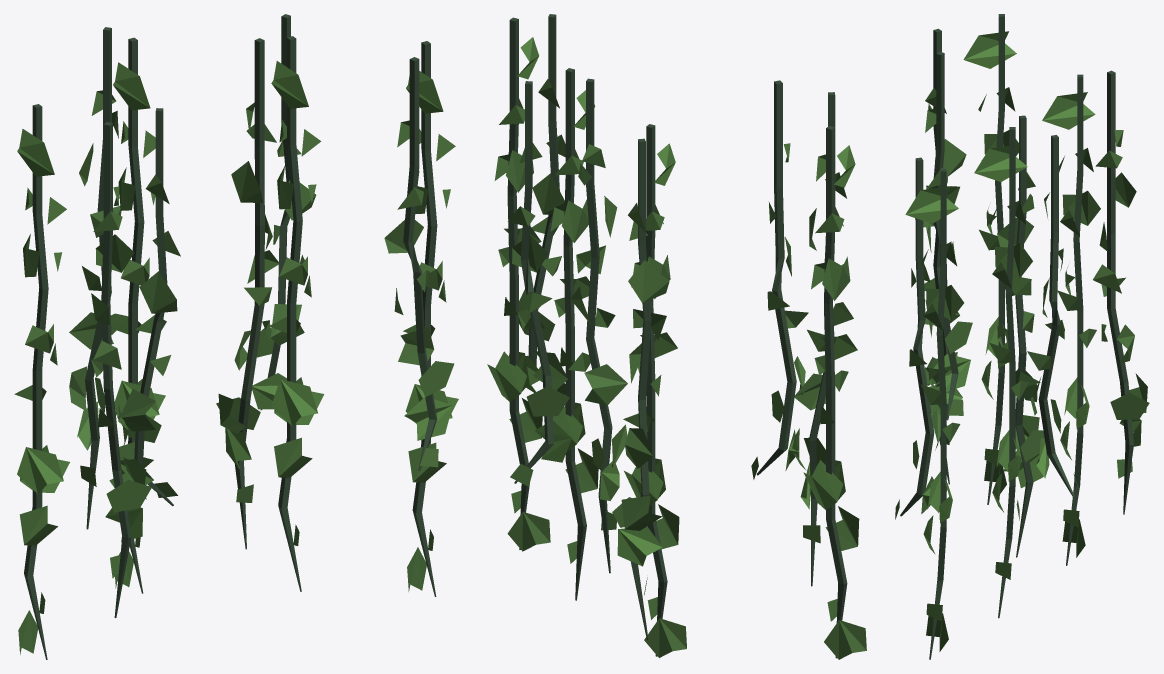
The model's file is SM_Env_Tree_Vines_02.glb.
The picture shows the model from 3 angles, left to right: view 1: azimuth 30°, elevation 25°; view 2: azimuth 150°, elevation 25°; view 3: azimuth 270°, elevation 25°; orthographic projection. The views are drawn at different scales.
Visible parts, largest first — view 1: SM_Env_Tree_Vines_02_part00; view 2: SM_Env_Tree_Vines_02_part00; view 3: SM_Env_Tree_Vines_02_part00.
Part boxes in pixels (x1,y1,x2,y2): SM_Env_Tree_Vines_02_part00: (14, 14, 458, 659); SM_Env_Tree_Vines_02_part00: (487, 14, 866, 659); SM_Env_Tree_Vines_02_part00: (895, 14, 1149, 659).
Size of the model in its own units: 2.41 by 3.05 by 1.44.
Materials: 1 (1 with a texture image).
